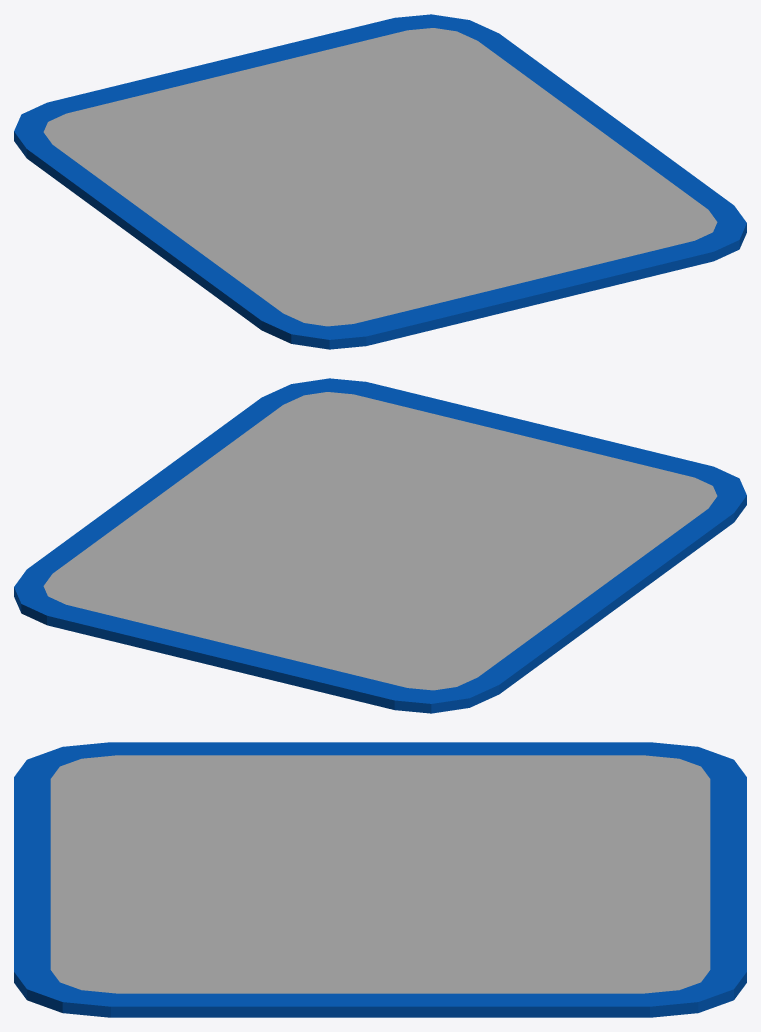
The model's file is Carpet_7.fbx.
The picture shows the model from 3 angles, top to bottom: view 1: azimuth 30°, elevation 25°; view 2: azimuth 150°, elevation 25°; view 3: azimuth 270°, elevation 25°; orthographic projection. The views are drawn at different scales.
Parts seen in each view (by area): view 1: Carpet_7; view 2: Carpet_7; view 3: Carpet_7.
Part boxes in pixels (x1=…): Carpet_7: x1=14, y1=14, x2=746, y2=349; Carpet_7: x1=14, y1=378, x2=746, y2=713; Carpet_7: x1=14, y1=742, x2=746, y2=1017.
Bounding box in the file's own units: 0.8203 × 0.016 × 0.9604.
